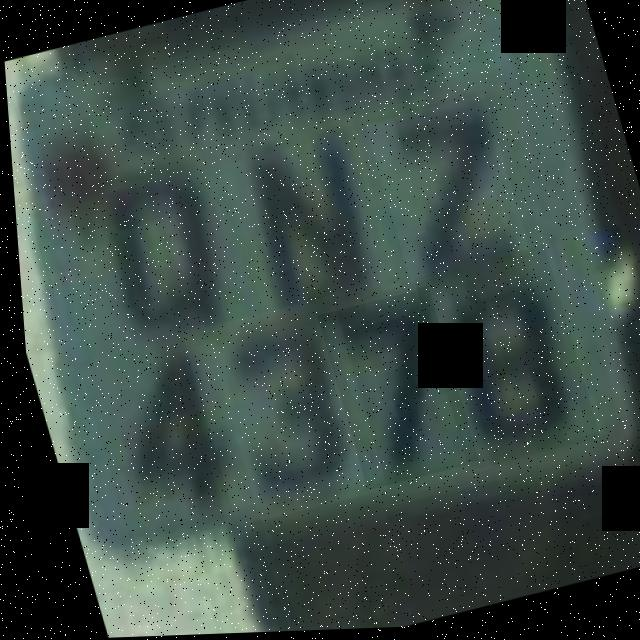3: (174, 296, 382, 529)
4: (65, 311, 255, 559)
7: (310, 289, 473, 493)
8: (407, 247, 594, 476)
N: (208, 104, 400, 335)
Z: (361, 96, 528, 287)
